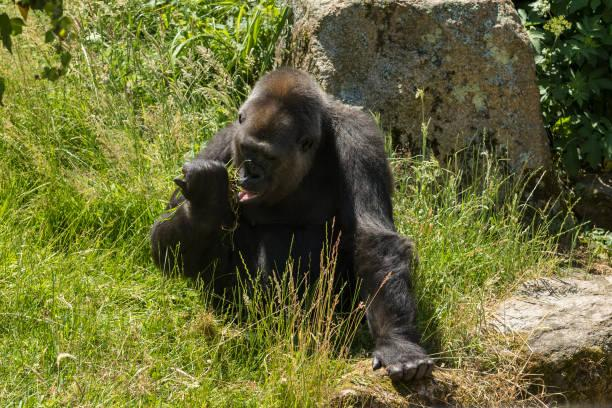gorille_Autres: (164, 56, 491, 395)
